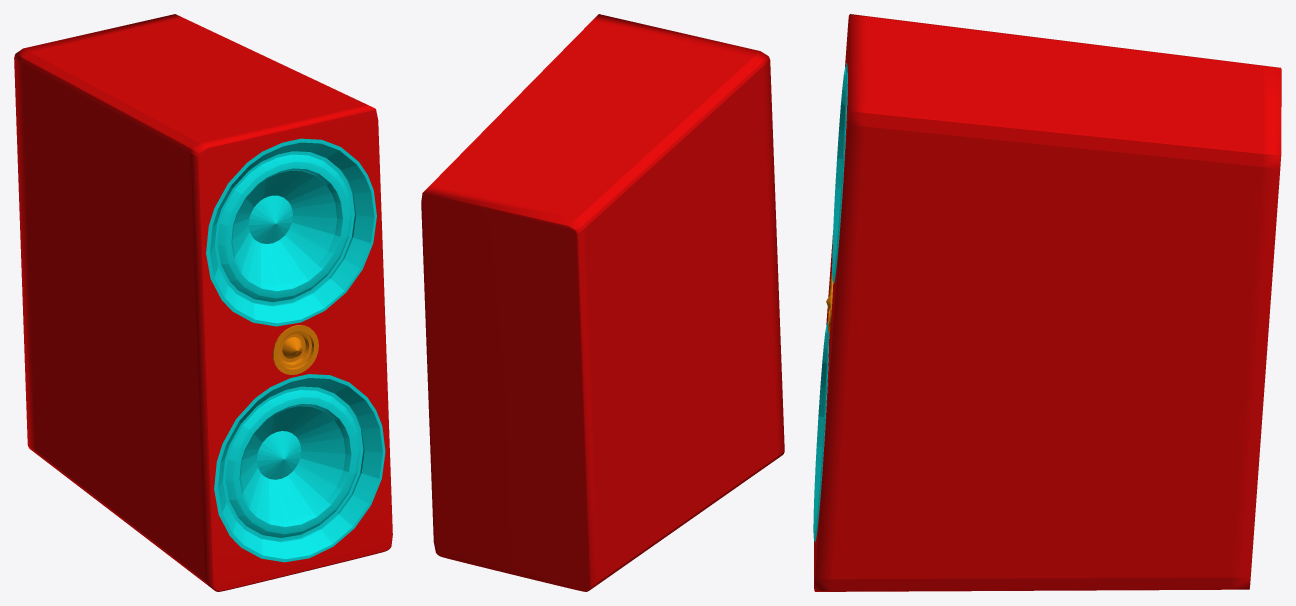
The model's file is speaker.fbx.
3 views of the same model, side by side, from view 1: azimuth 30°, elevation 25°; view 2: azimuth 150°, elevation 25°; view 3: azimuth 270°, elevation 25° (orthographic). The views are drawn at different scales.
Parts seen in each view (by area): view 1: acoustic:______, polySurface358, polySurface357, polySurface355; view 2: acoustic:______; view 3: acoustic:______, polySurface357, polySurface358.
Part boxes in pixels (x1,y1,x2,y2): acoustic:______: (14, 14, 392, 591); polySurface358: (214, 374, 385, 562); polySurface357: (206, 138, 376, 326); polySurface355: (272, 325, 318, 374); acoustic:______: (421, 14, 784, 591); acoustic:______: (814, 14, 1281, 591); polySurface357: (832, 63, 847, 283); polySurface358: (813, 321, 829, 541).
Bounding box in the file's own units: 7.31 × 16.81 × 14.57.
